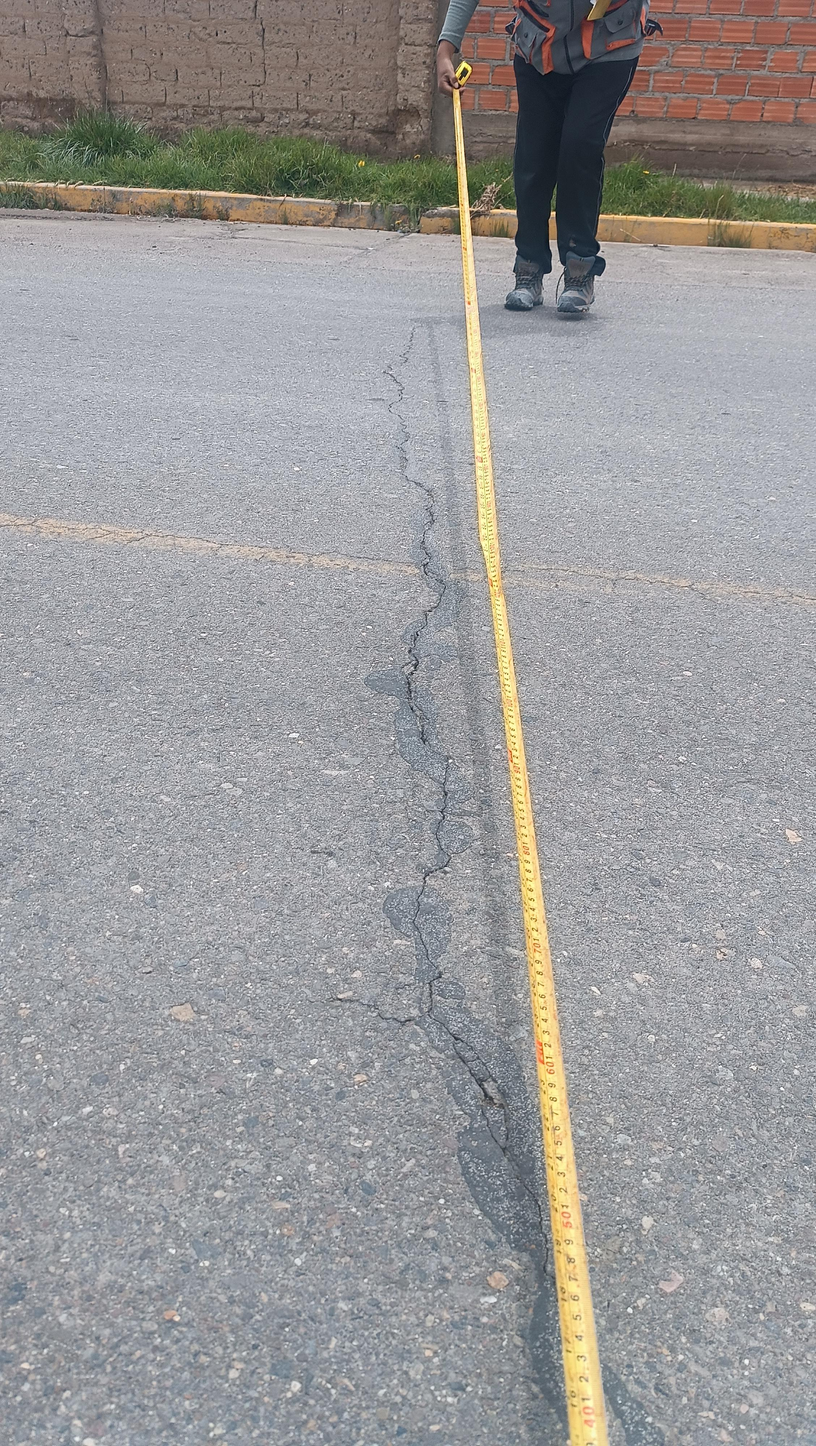GRIETA: (412, 757, 512, 1158), (405, 530, 447, 748), (382, 370, 436, 529), (530, 566, 680, 586), (290, 550, 416, 564), (149, 534, 240, 548), (794, 594, 816, 601), (738, 591, 774, 595)
